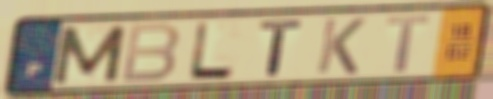B: (118, 20, 183, 85)
K: (312, 16, 369, 77)
L: (185, 20, 238, 81)
M: (48, 23, 130, 87)
T: (256, 18, 308, 78), (384, 13, 434, 75)
